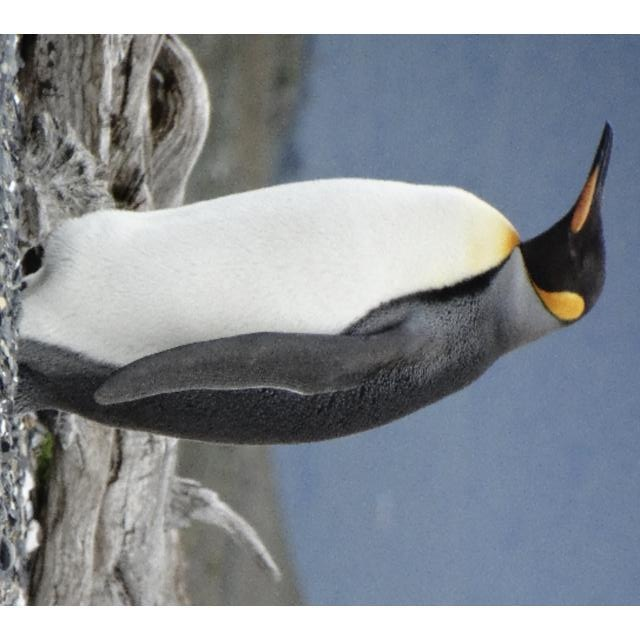penguin: (7, 124, 614, 446)
